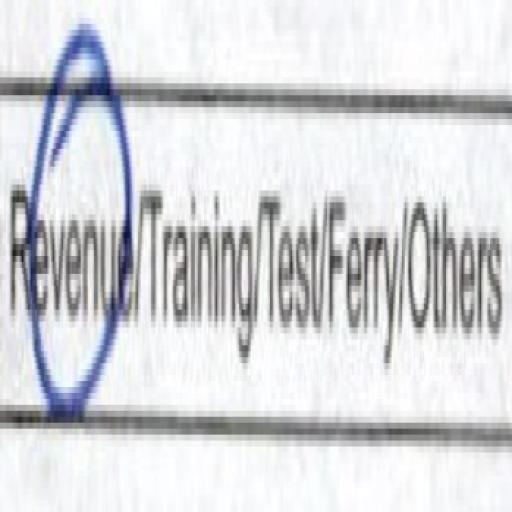check: (2, 0, 139, 463)
